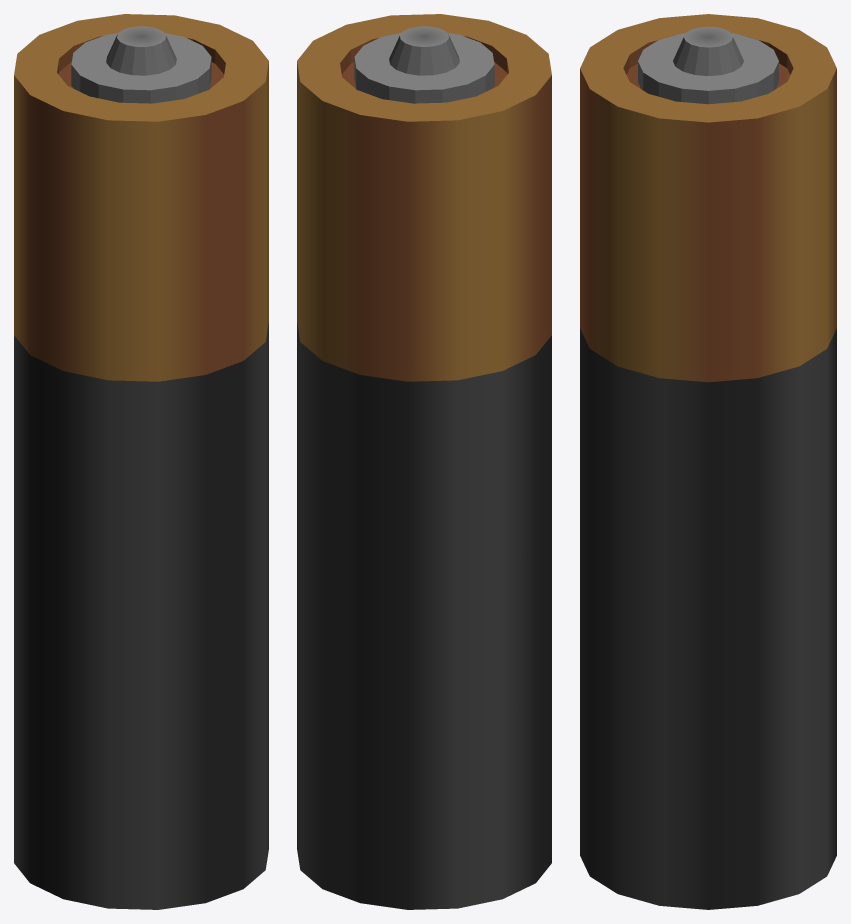
Rendered from human-electronics-battery_v3.fbx.
3 views of the same model, side by side, from view 1: azimuth 30°, elevation 25°; view 2: azimuth 150°, elevation 25°; view 3: azimuth 270°, elevation 25° (orthographic).
Parts seen in each view (by area): view 1: Battery_v3; view 2: Battery_v3; view 3: Battery_v3.
Part boxes in pixels (x1,y1,x2,y2): Battery_v3: (14, 14, 268, 909); Battery_v3: (297, 14, 551, 909); Battery_v3: (580, 14, 836, 909).
Size of the model in its own units: 0.0168 by 0.06 by 0.0168.
